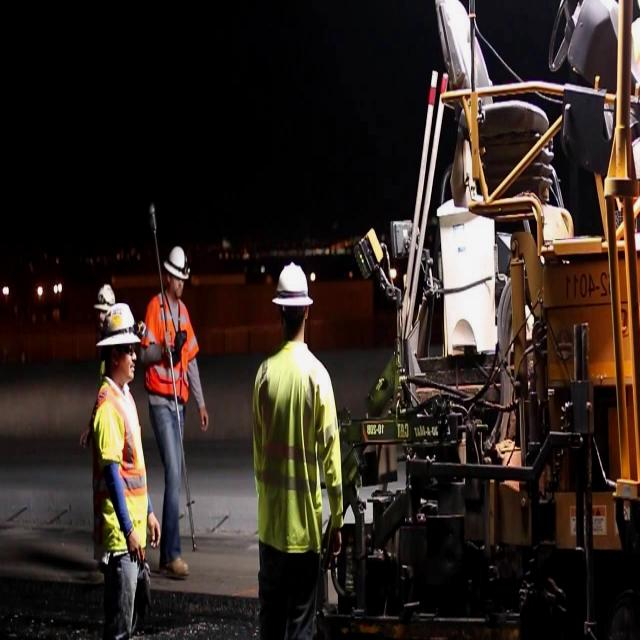face_nomask: (113, 341, 139, 382), (167, 274, 189, 298)
hand_noglove: (123, 530, 147, 572), (196, 403, 214, 430)
head_helmet: (273, 265, 313, 306), (102, 306, 140, 346), (163, 242, 191, 276), (93, 281, 113, 307)
person: (257, 264, 337, 611), (154, 249, 204, 586), (94, 305, 145, 634), (73, 281, 117, 440)
shoes: (158, 544, 191, 582)
vest: (253, 357, 331, 551), (95, 382, 141, 544), (144, 302, 191, 391)
